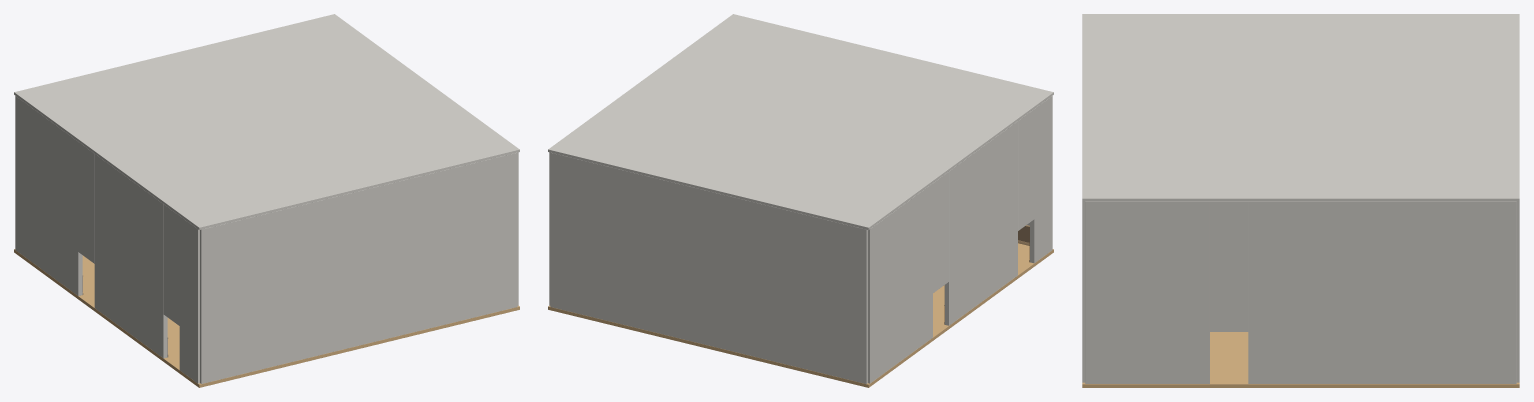
The model's file is room-atrium.d0746c17.glb.
The picture shows the model from 3 angles, left to right: view 1: azimuth 30°, elevation 25°; view 2: azimuth 150°, elevation 25°; view 3: azimuth 270°, elevation 25°; orthographic projection. The views are drawn at different scales.
Visible parts, largest first — view 1: atrium__structure, atrium__floor; view 2: atrium__structure, atrium__floor; view 3: atrium__structure, atrium__floor.
Boxes of the visible parts, x1,y1,x2,y2 form: atrium__structure: [14, 14, 519, 383]; atrium__floor: [14, 249, 519, 387]; atrium__structure: [548, 14, 1053, 383]; atrium__floor: [548, 243, 1053, 387]; atrium__structure: [1082, 14, 1519, 383]; atrium__floor: [1082, 332, 1519, 387].
Size of the model in its own units: 18.25 by 8.72 by 18.25.
